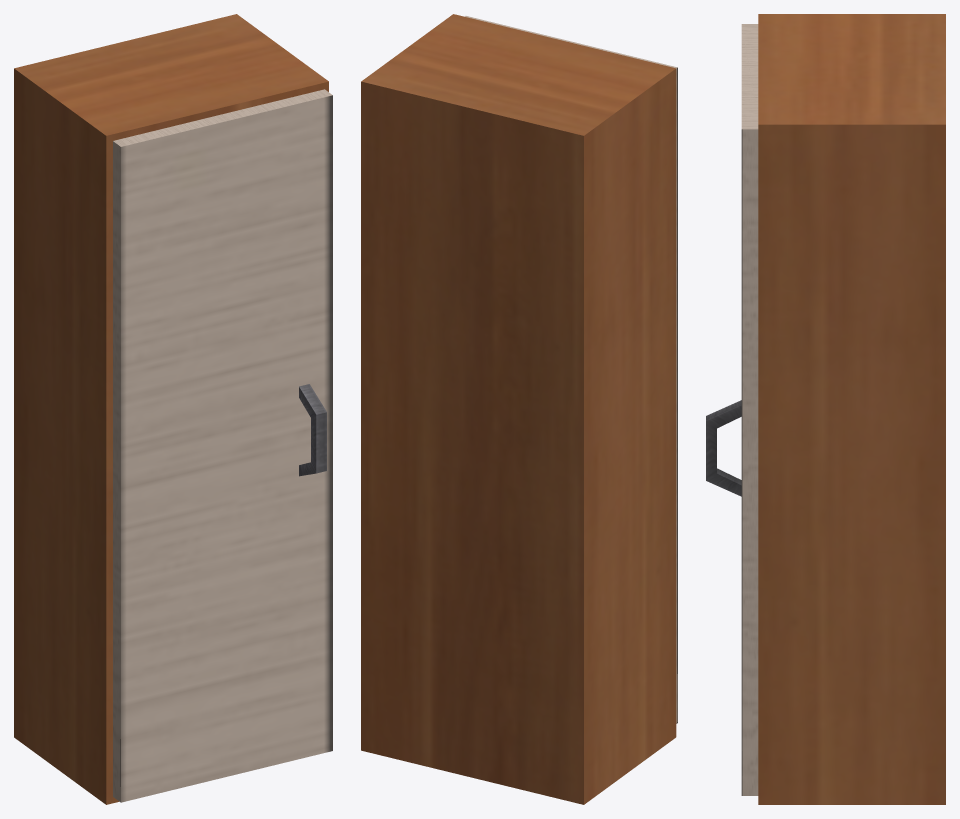
File: WardRobe_1D.fbx
3 renders of one model, left to right at view 1: azimuth 30°, elevation 25°; view 2: azimuth 150°, elevation 25°; view 3: azimuth 270°, elevation 25°, orthographic.
Parts seen in each view (by area): view 1: polySurface1603; view 2: polySurface1603; view 3: polySurface1603.
Boxes of the visible parts, x1,y1,x2,y2 form: polySurface1603: [14, 14, 332, 804]; polySurface1603: [361, 14, 677, 804]; polySurface1603: [706, 14, 945, 804].
Bounding box in the file's own units: 1.18 × 3.4 × 1.09.
